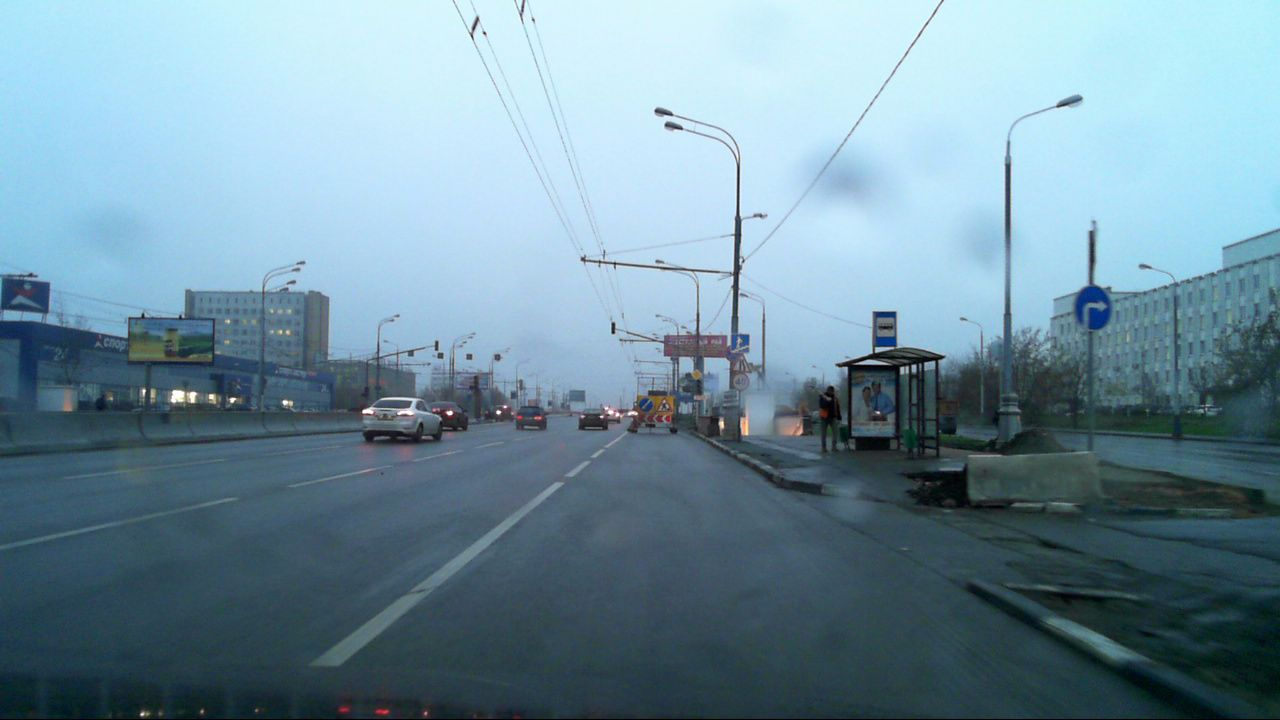speed_warning_40: (732, 373, 749, 390)
